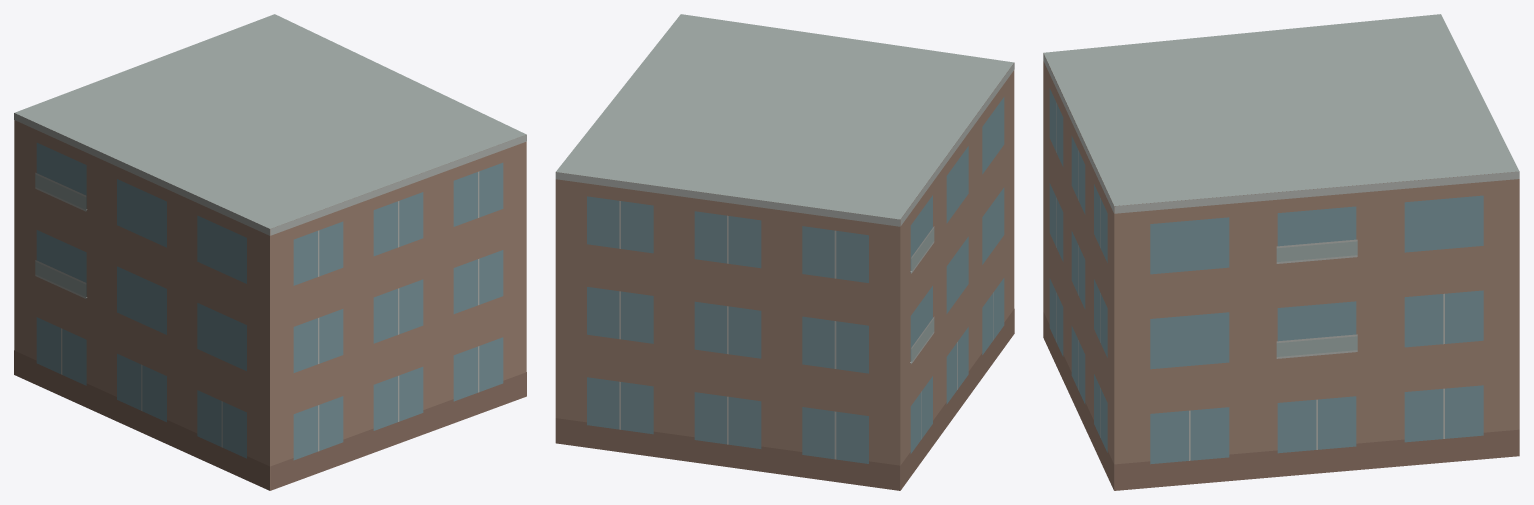
The model's file is survey-upis-32616513.glb.
3 views of the same model, side by side, from view 1: azimuth 30°, elevation 25°; view 2: azimuth 150°, elevation 25°; view 3: azimuth 270°, elevation 25° (orthographic). The views are drawn at different scales.
Visible parts, largest first — view 1: survey-upis-32616513.tmp; view 2: survey-upis-32616513.tmp; view 3: survey-upis-32616513.tmp.
Part boxes in pixels (left/top/right/bottom): survey-upis-32616513.tmp: left=14, top=14, right=526, bottom=490; survey-upis-32616513.tmp: left=555, top=14, right=1014, bottom=490; survey-upis-32616513.tmp: left=1043, top=14, right=1519, bottom=490.
Bounding box in the file's own units: 13.25 × 9.15 × 13.88.
